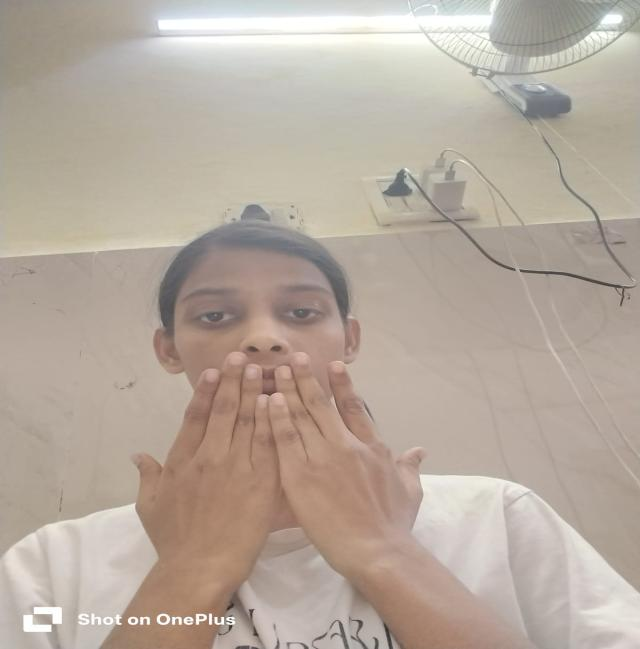Thanks: (125, 335, 432, 586)
